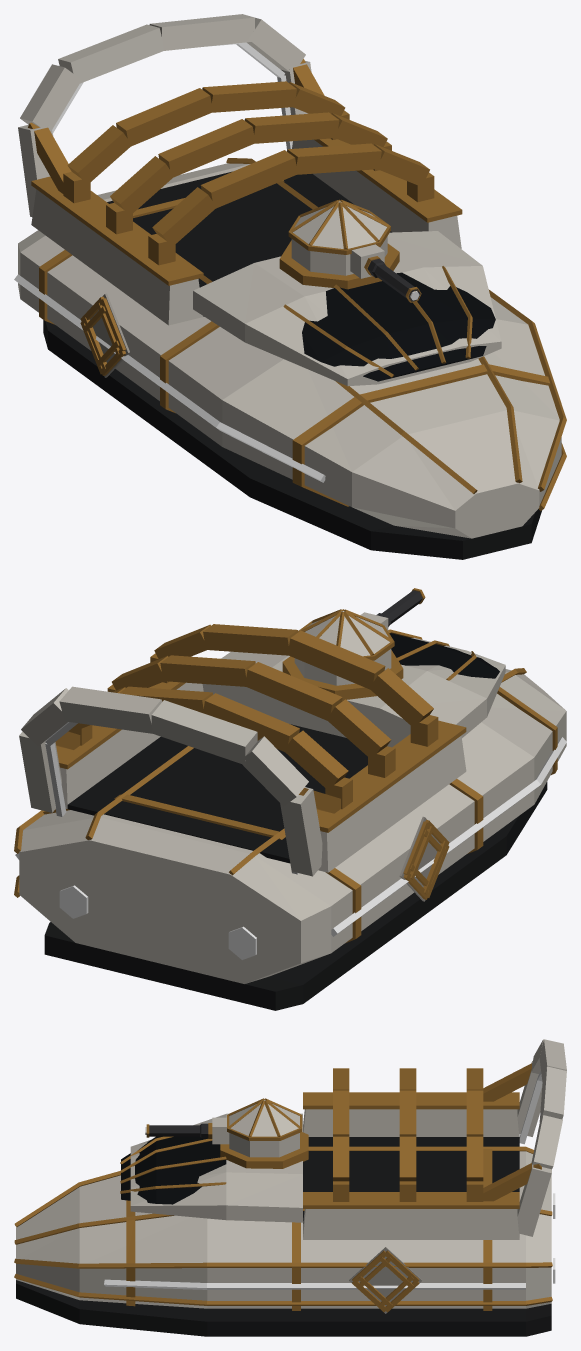
Rendered from transport.glb.
3 renders of one model, top to bottom at view 1: azimuth 30°, elevation 25°; view 2: azimuth 150°, elevation 25°; view 3: azimuth 270°, elevation 25°, orthographic. The views are drawn at different scales.
Visible parts, largest first — view 1: body, top; view 2: body, top; view 3: body, top.
Part boxes in pixels (left/top/right/bottom): body: left=14, top=14, right=566, bottom=559; top: left=288, top=199, right=421, bottom=302; body: left=14, top=624, right=566, bottom=1010; top: left=294, top=588, right=425, bottom=685; body: left=14, top=1039, right=566, bottom=1336; top: left=145, top=1098, right=302, bottom=1157.
Size of the model in its own units: 4.65 by 3.94 by 8.67.
